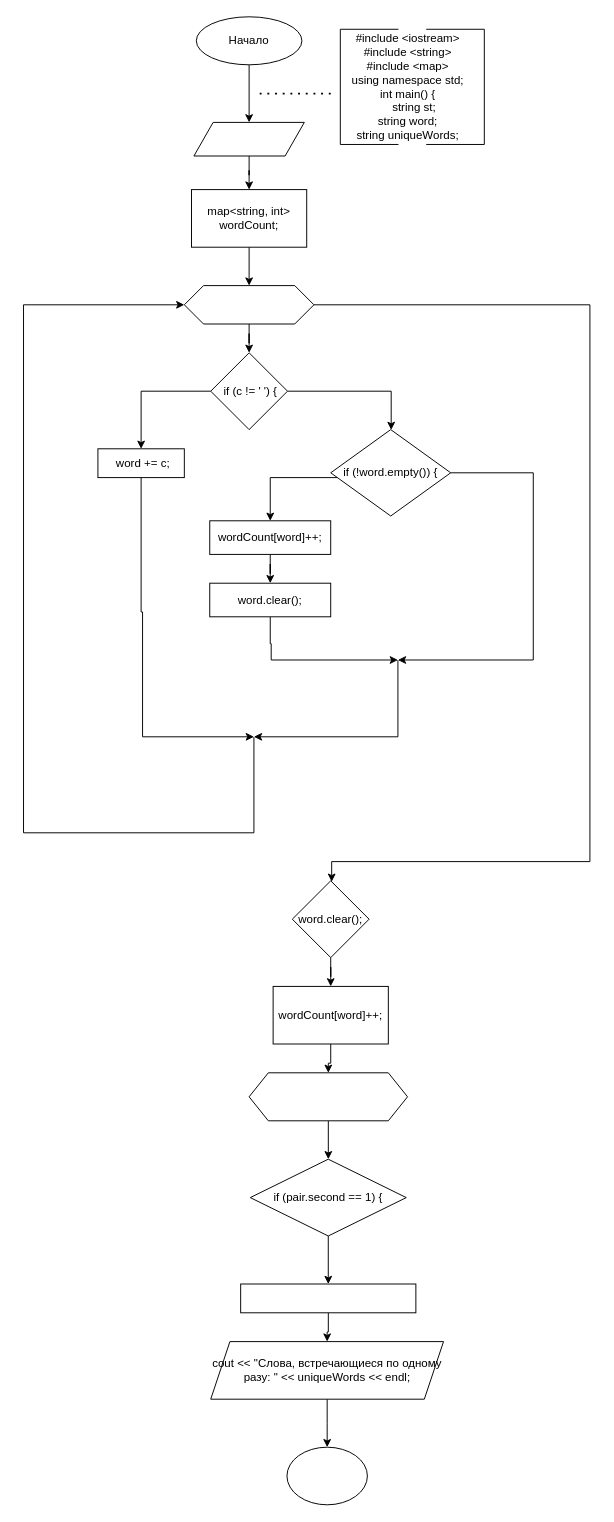
This 614x1522 diagram has some shape labels left out. Here are the shapes that lost their labels. From the top down, the centre of each, then its label:
the point at 248,138: getline(cin, st);
the point at 248,304: for (char c : st) {
the point at 328,1096: for (const auto& pair : wordCount) {
the point at 328,1298: uniqueWords += pair.first + " ";
the point at 326,1475: return 0;
